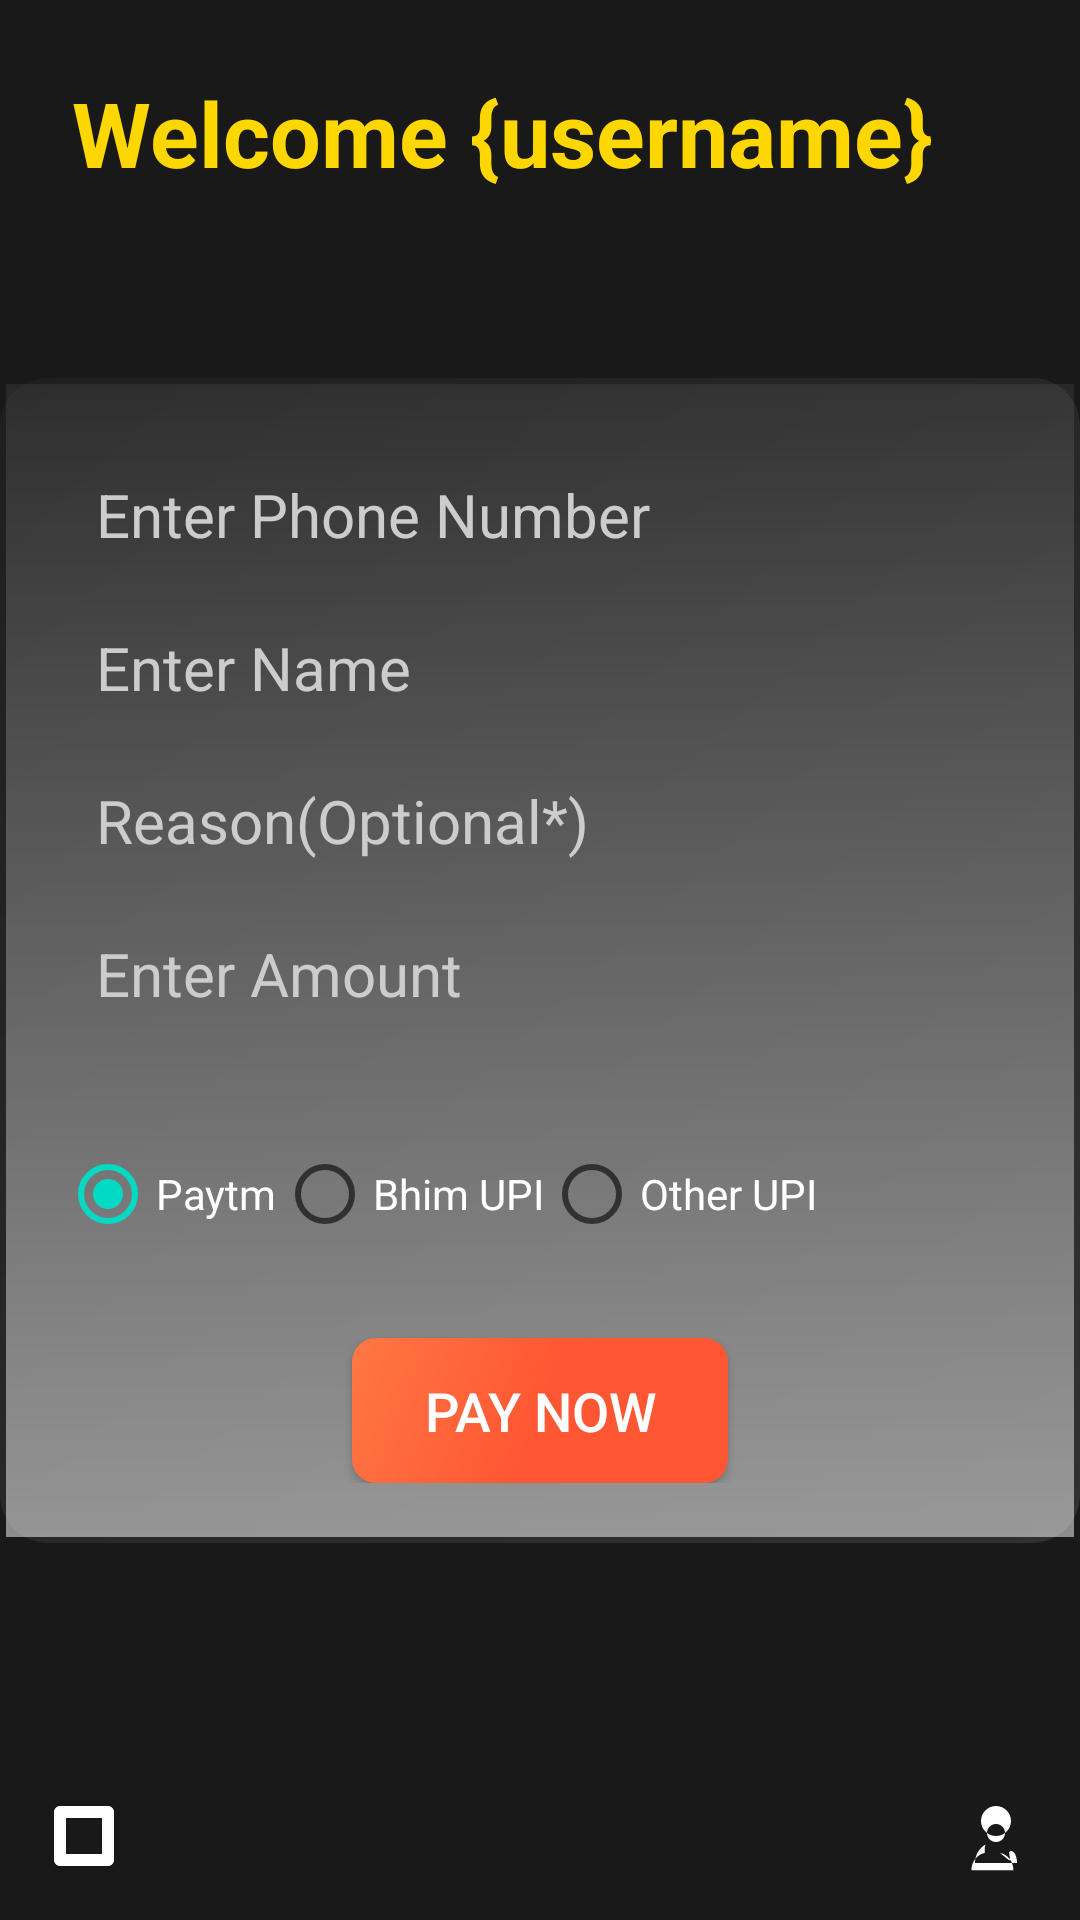

Named icons in this screenshot (1080 × 1920) and their bounding boxes, region(x1, y1, x2, y2):
profile menu: region(971, 1806, 1017, 1871)
